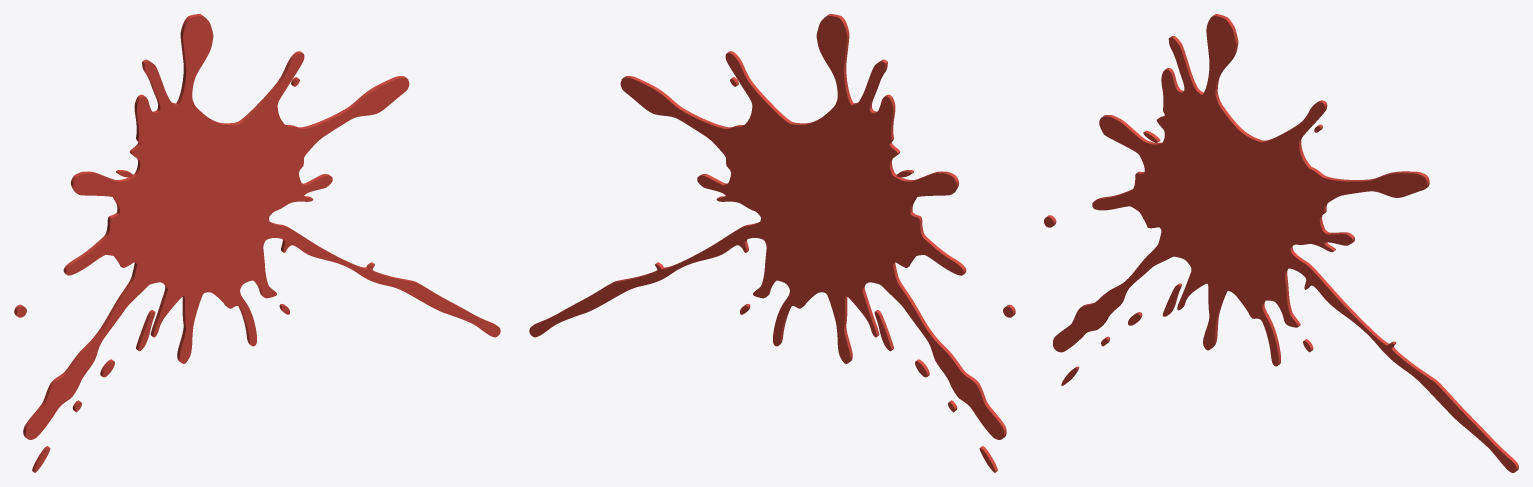
Rendered from 3DSplatter.fbx.
3 views of the same model, side by side, from view 1: azimuth 30°, elevation 25°; view 2: azimuth 150°, elevation 25°; view 3: azimuth 330°, elevation 25° (orthographic). The views are drawn at different scales.
Parts seen in each view (by area): view 1: path849; view 2: path849; view 3: path849.
Part boxes in pixels (box(x1,y1,x2,y2)): path849: box(14, 14, 500, 472); path849: box(529, 14, 1015, 472); path849: box(1044, 14, 1518, 472).
Bounding box in the file's own units: 265 × 218 × 2.33.
